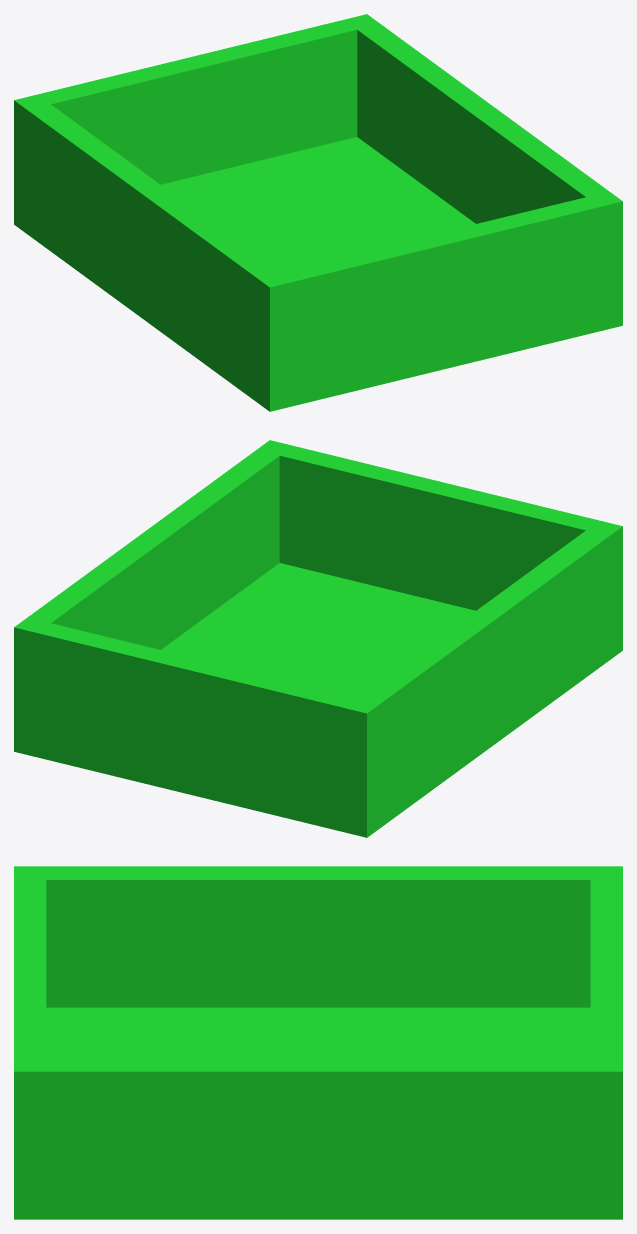
The model's file is denso_box.dae.
The picture shows the model from 3 angles, top to bottom: view 1: azimuth 30°, elevation 25°; view 2: azimuth 150°, elevation 25°; view 3: azimuth 270°, elevation 25°; orthographic projection. The views are drawn at different scales.
Parts seen in each view (by area): view 1: Object-1; view 2: Object-1; view 3: Object-1.
Part boxes in pixels (<box>): Object-1: <box>14,14,622,411</box>; Object-1: <box>14,440,622,837</box>; Object-1: <box>14,866,622,1219</box>.
Bounding box in the file's own units: 0.3016 × 0.3786 × 0.1015.
